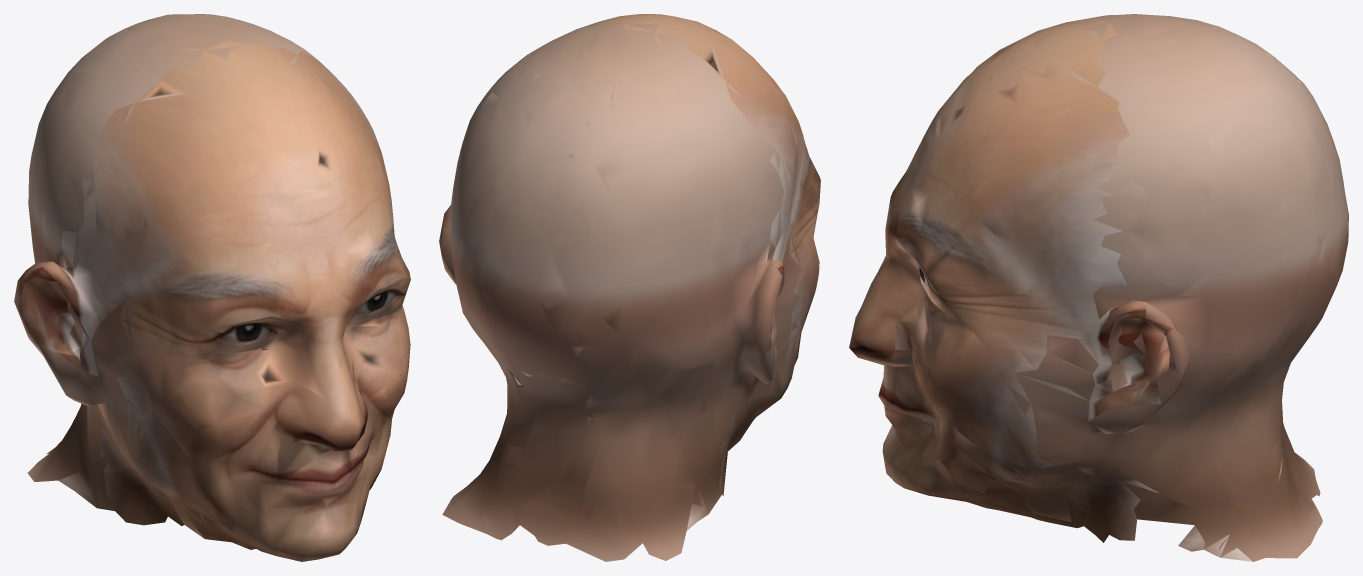
File: head_bozu.glb
3 renders of one model, left to right at view 1: azimuth 30°, elevation 25°; view 2: azimuth 150°, elevation 25°; view 3: azimuth 270°, elevation 25°, orthographic. The views are drawn at different scales.
Visible parts, largest first — view 1: geometry_0; view 2: geometry_0; view 3: geometry_0.
Boxes of the visible parts, left/top/right/bottom form: geometry_0: left=14, top=14, right=410, bottom=561; geometry_0: left=439, top=14, right=820, bottom=561; geometry_0: left=849, top=14, right=1348, bottom=561.
Bounding box in the file's own units: 0.7778 × 1 × 0.9572.
1 material, 1 textured.
